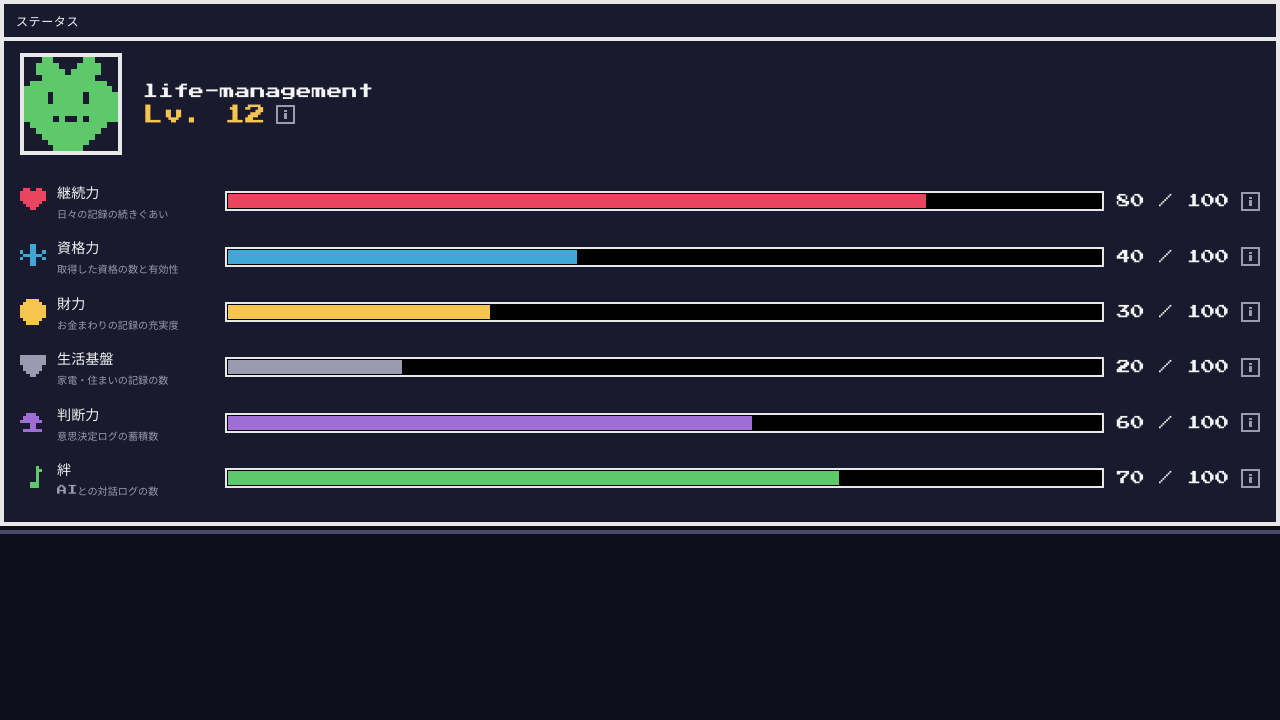
Test: StatusPanel › leads the popover with a plain-language summary
The width and height of the screenshot is (1280, 720).
Click the button named "生活基盤 の説明".
click(1250, 367)  # box [1241,358,1260,377]
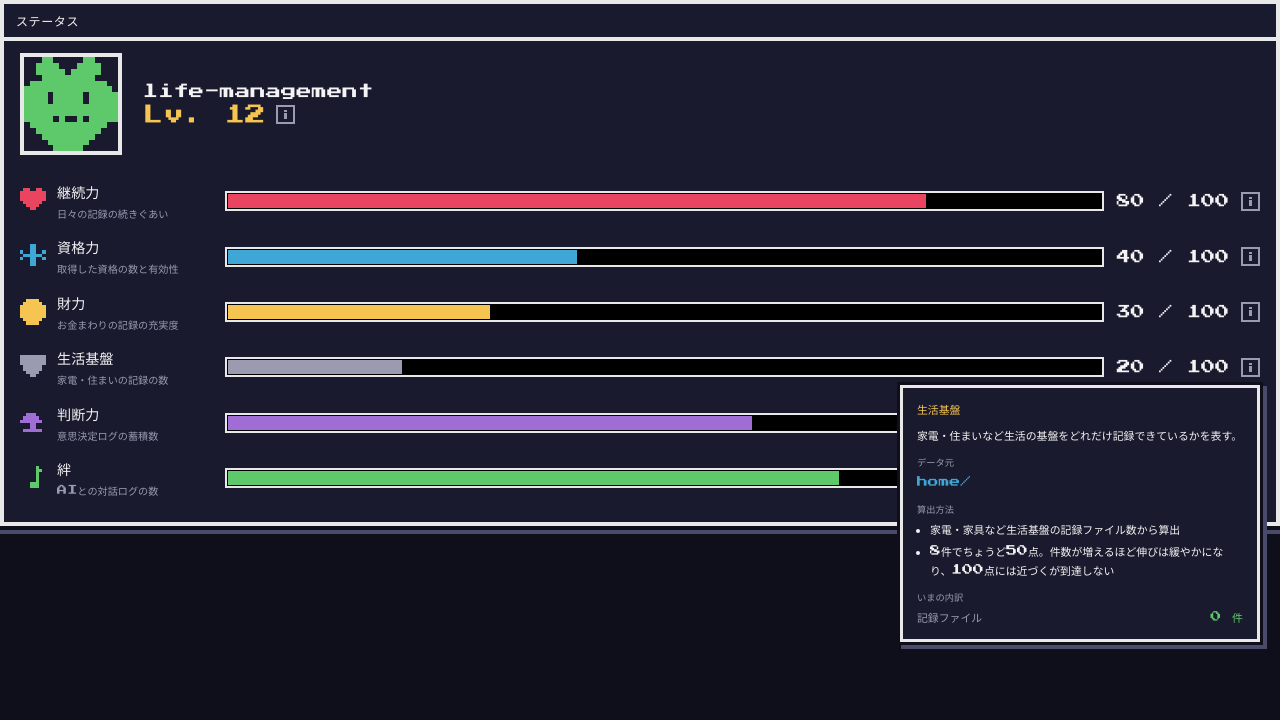
Now the tooltip shows "家電・住まいなど生活の基盤", box [917,428,1242,440]
